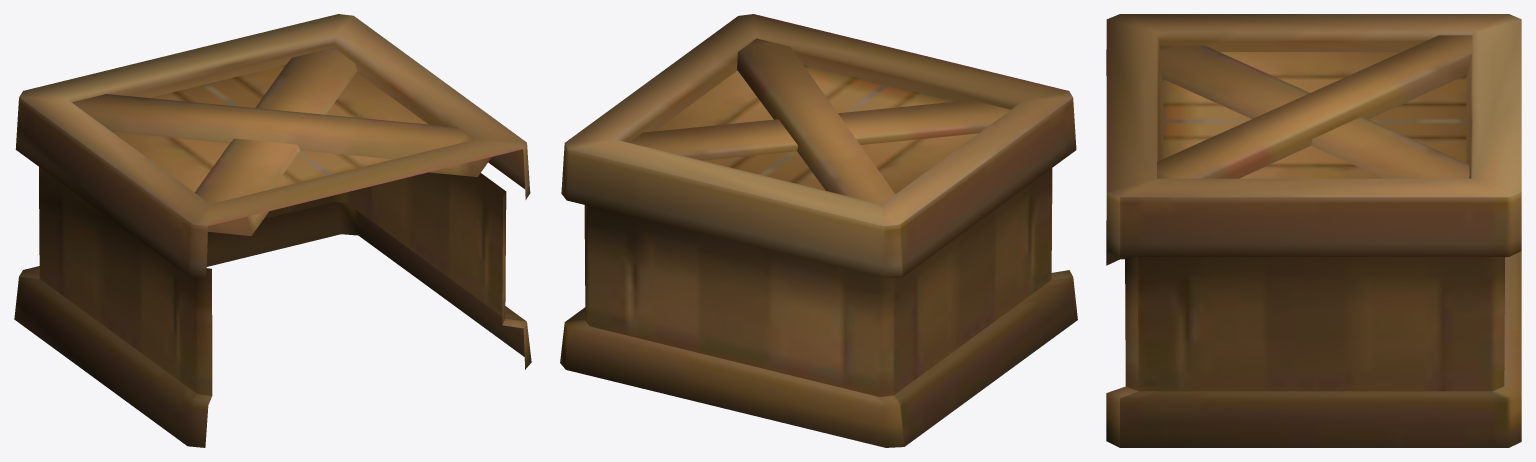
The model's file is obj_box1 (merge).fbx.
3 renders of one model, left to right at view 1: azimuth 30°, elevation 25°; view 2: azimuth 150°, elevation 25°; view 3: azimuth 270°, elevation 25°, orthographic. The views are drawn at different scales.
Parts seen in each view (by area): view 1: obj_box1; view 2: obj_box1; view 3: obj_box1.
Boxes of the visible parts, x1,y1,x2,y2 form: obj_box1: (14, 14, 531, 447); obj_box1: (560, 14, 1077, 447); obj_box1: (1106, 14, 1521, 447).
Bounding box in the file's own units: 1.01 × 0.6205 × 0.942.
Materials: 1 (1 with a texture image).
